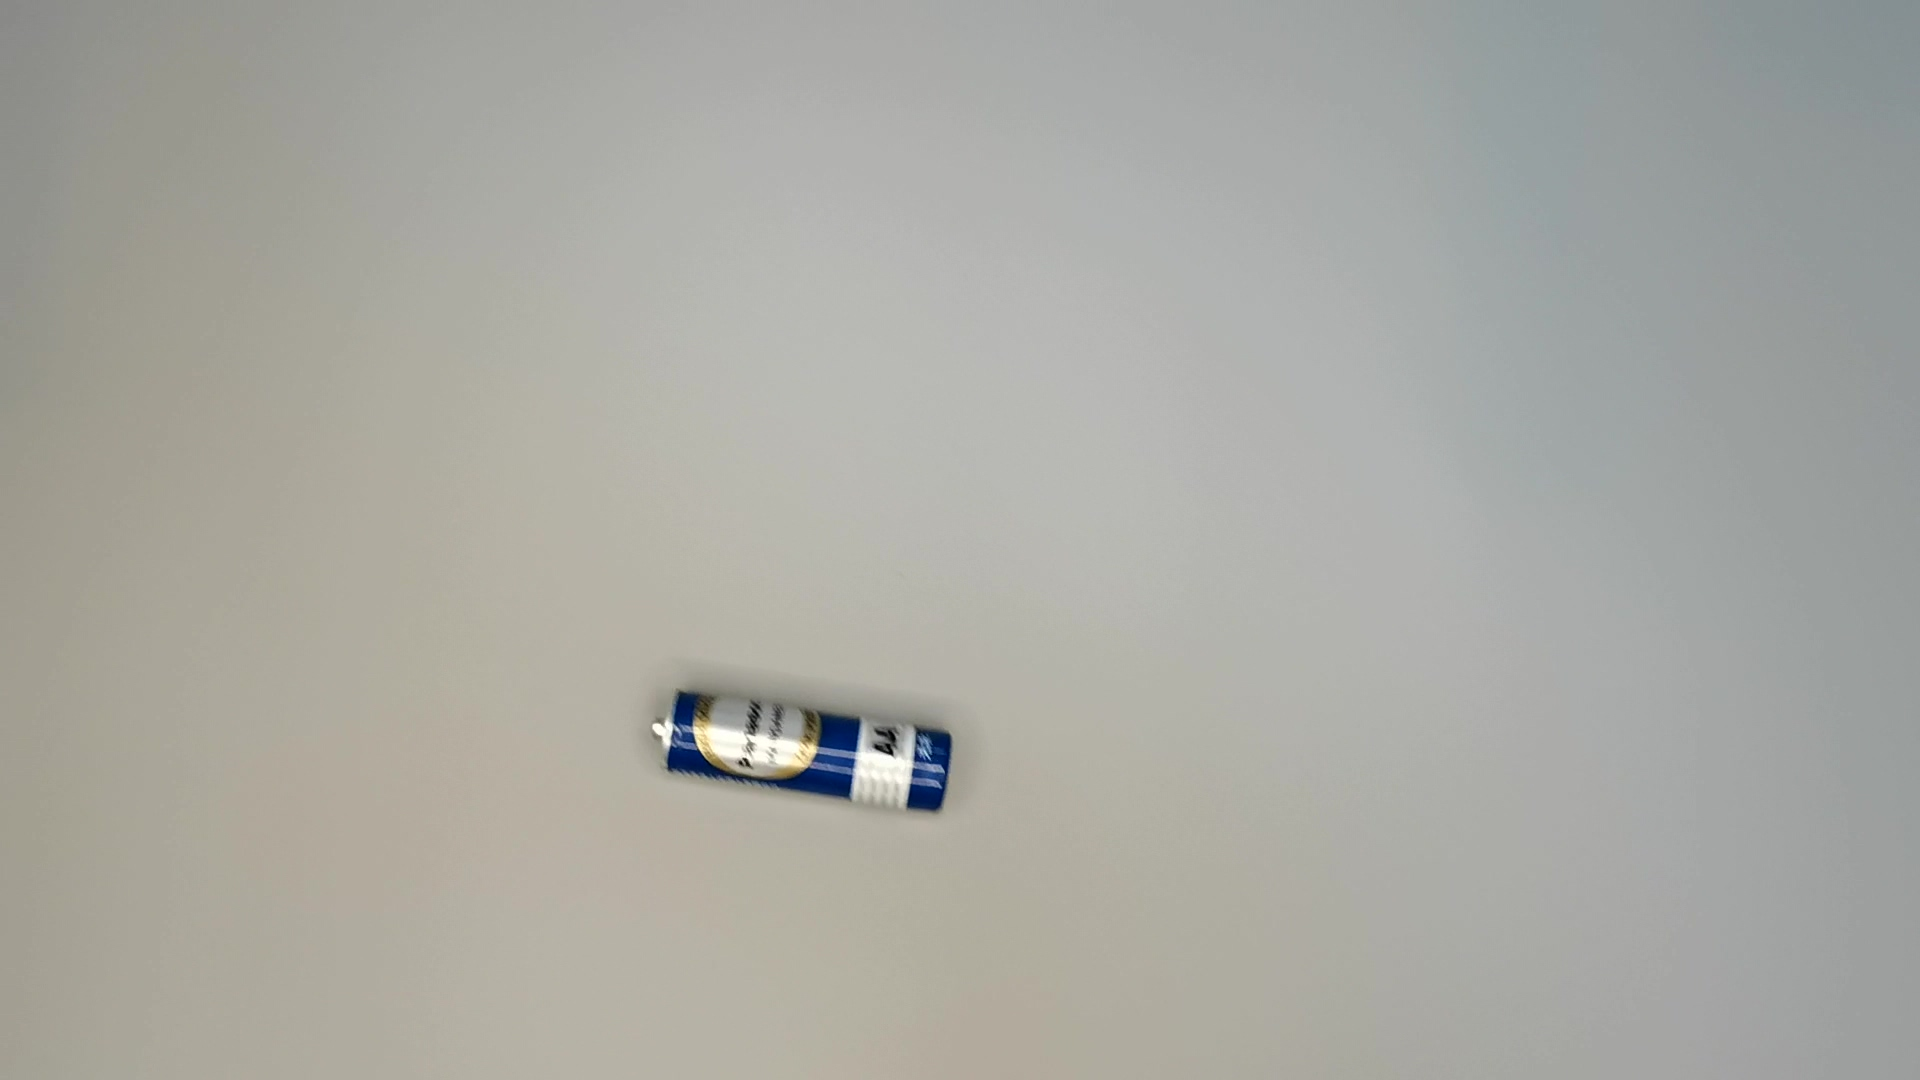battery: (655, 686, 960, 820)
